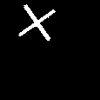single_crochet: (19, 5, 54, 40)
